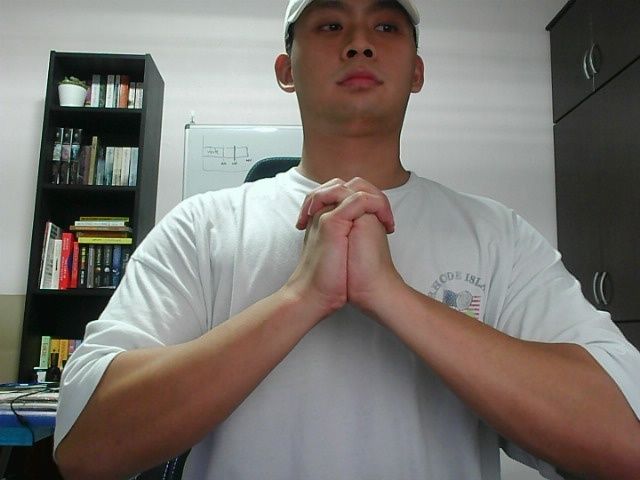Serpent: (263, 169, 427, 340)
